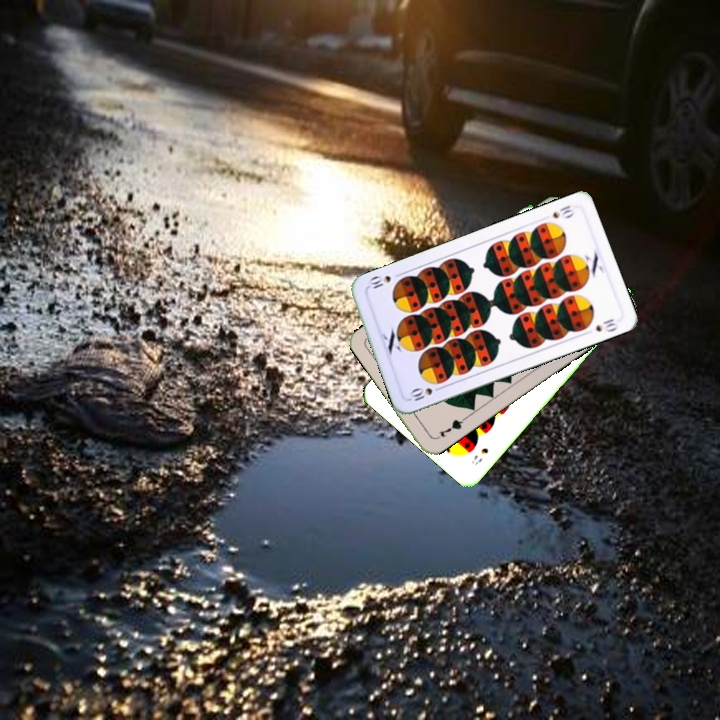G7: (432, 414, 467, 442)
S10: (406, 382, 445, 404), (548, 201, 577, 221)
S8: (467, 444, 491, 468)
